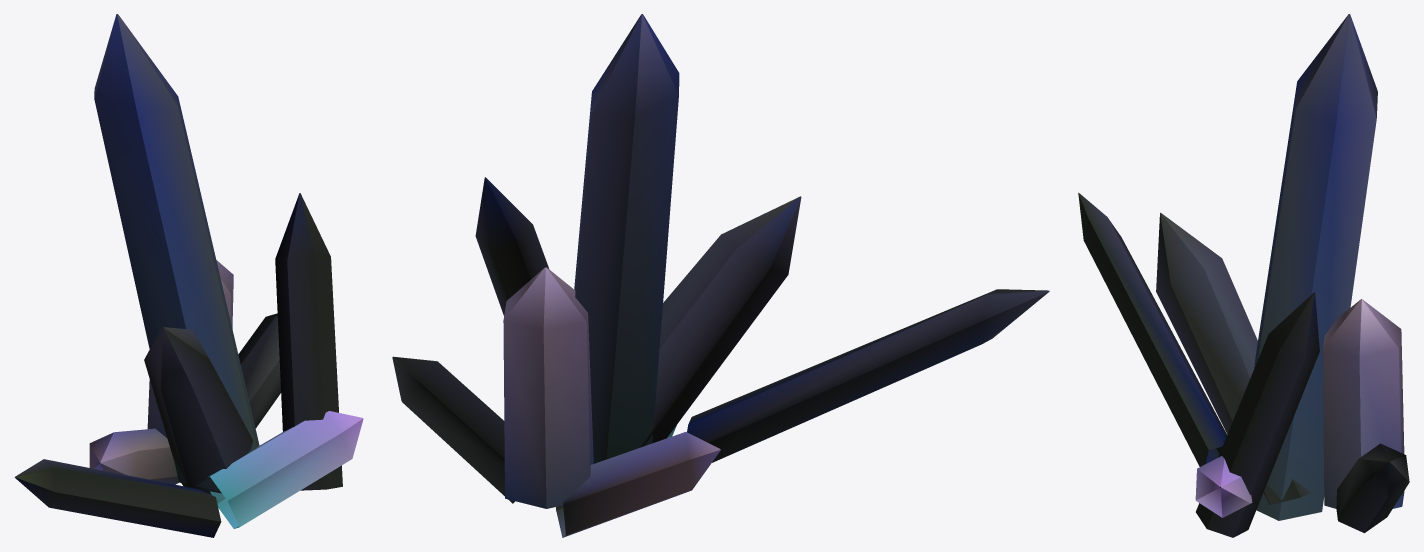
Rendered from Crystal_02.fbx.
3 renders of one model, left to right at view 1: azimuth 30°, elevation 25°; view 2: azimuth 150°, elevation 25°; view 3: azimuth 270°, elevation 25°, orthographic. The views are drawn at different scales.
Parts seen in each view (by area): view 1: polySurface5493; view 2: polySurface5493; view 3: polySurface5493.
Part boxes in pixels (<box>): polySurface5493: <box>14,14,363,537</box>; polySurface5493: <box>392,14,1049,537</box>; polySurface5493: <box>1078,14,1409,537</box>.
Size of the model in its own units: 13.74 by 14.35 by 8.92.
